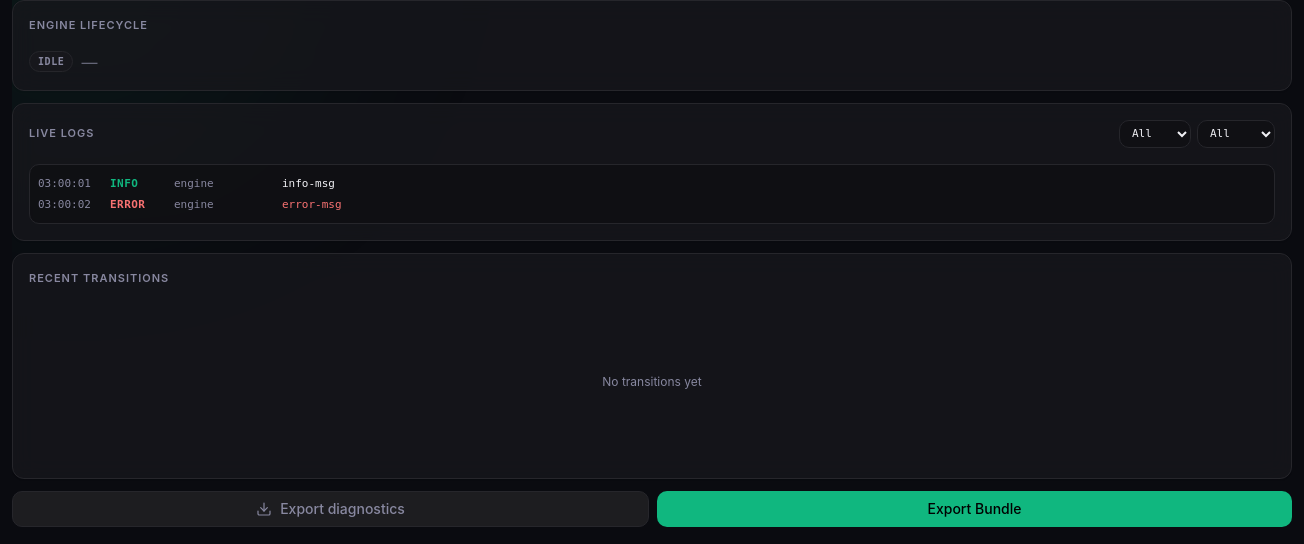
DiagnosticsPanel ??filters › filters logs by level when the level dropdown changes
This screenshot has width=1304, height=544.
Check: the text "info-msg" is shown, box [282, 176, 335, 190]
Check: the text "error-msg" is shown, box [282, 198, 342, 210]
Step 1. Select "error" in the dropdown named "Level" → point(1155, 134), box [1119, 120, 1191, 148]
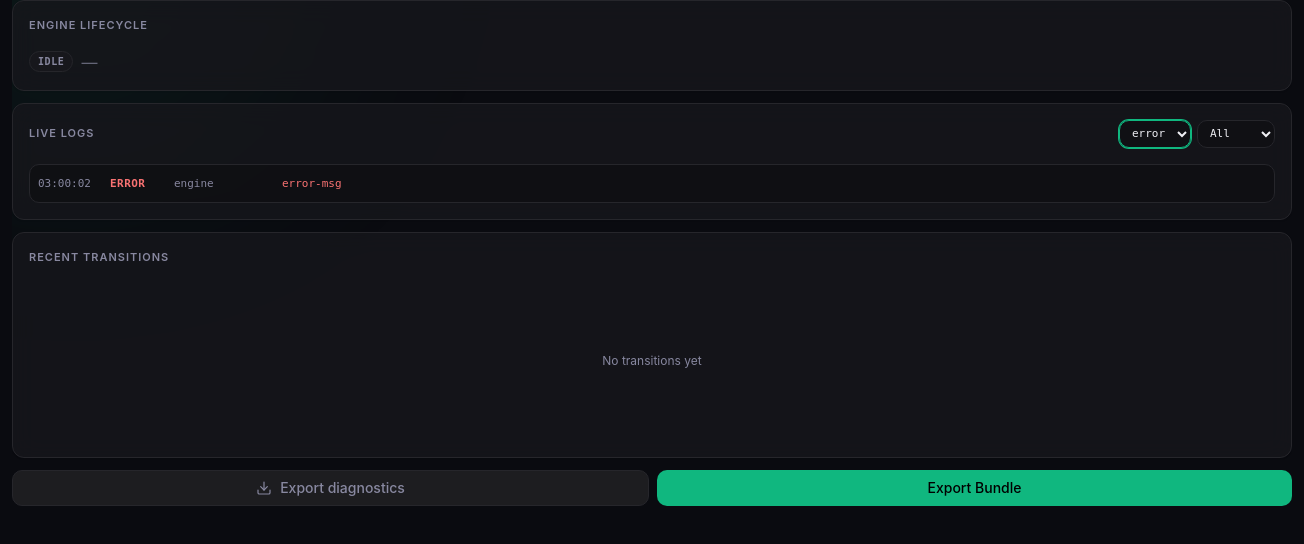
Check: the text "error-msg" is shown, box [282, 176, 342, 190]
Check: the text "info-msg" is gone
